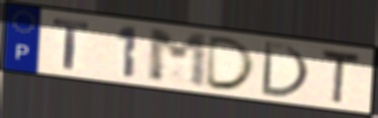1: (115, 26, 138, 81)
D: (258, 39, 313, 101), (202, 34, 259, 93)
M: (146, 27, 211, 90)
T: (318, 46, 362, 107), (51, 17, 91, 72)
